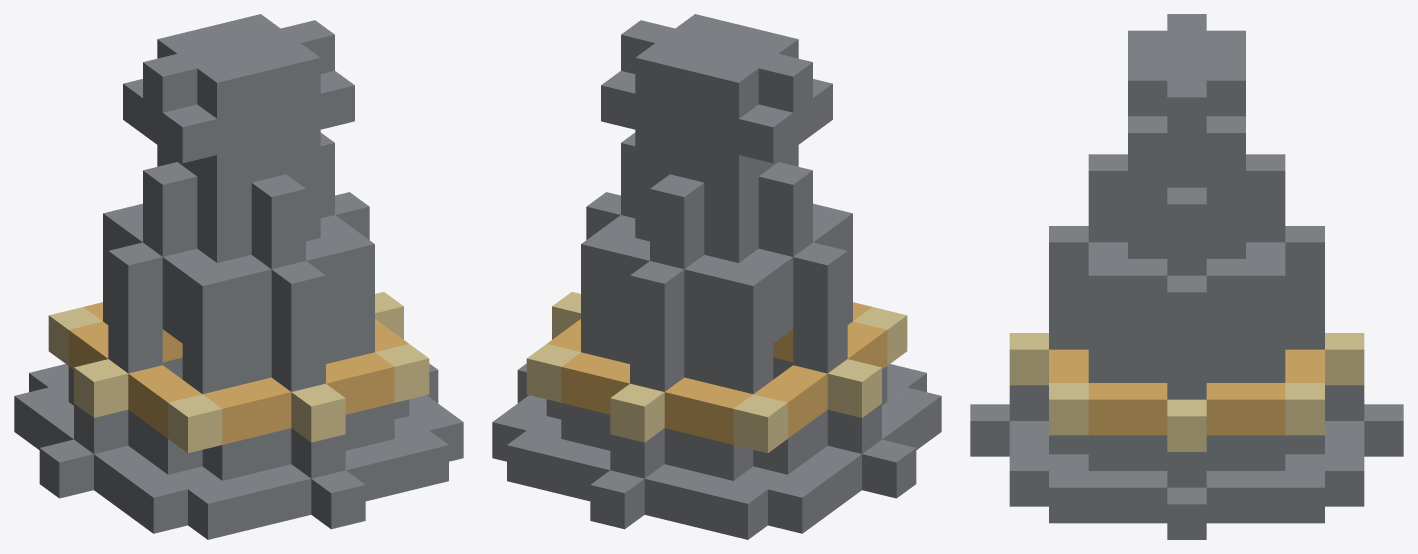
The model's file is bell.glb.
3 renders of one model, left to right at view 1: azimuth 30°, elevation 25°; view 2: azimuth 150°, elevation 25°; view 3: azimuth 270°, elevation 25°, orthographic.
Bounding box in the file's own units: 11 × 11 × 11.
